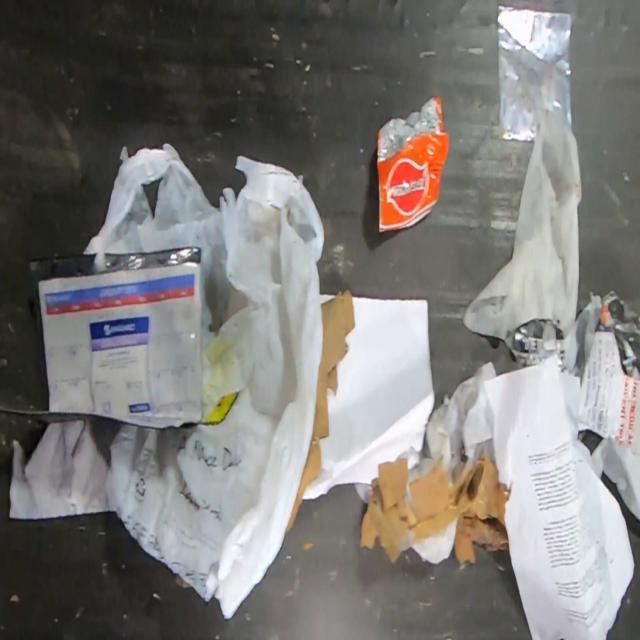cardboard: (358, 453, 512, 566), (286, 290, 355, 532)
rigid_plastic: (495, 5, 576, 144)
soft_plastic: (103, 142, 325, 620), (0, 248, 203, 429), (376, 96, 451, 233)
